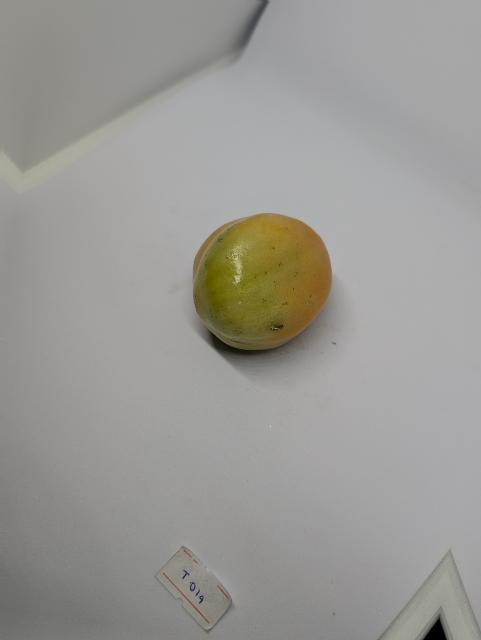breaker: (193, 213, 332, 350)
